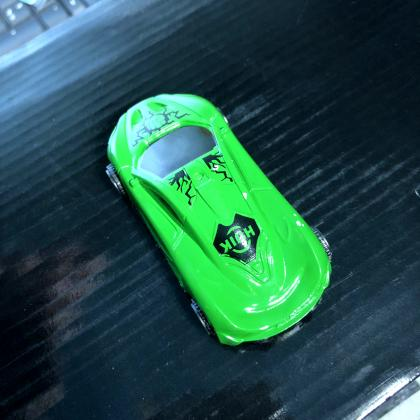Car: (105, 94, 332, 348)
